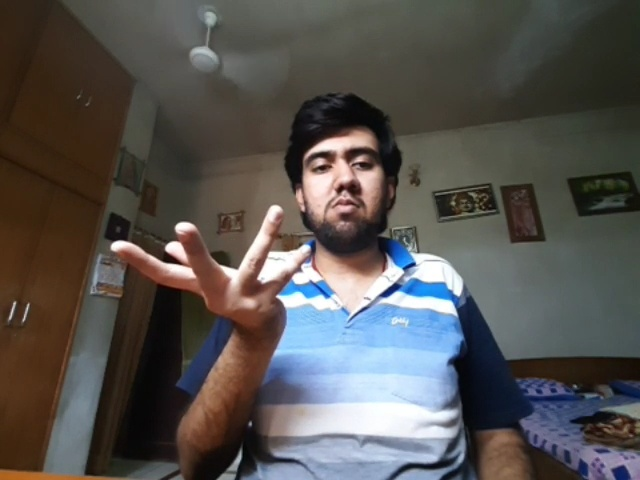What: (110, 205, 313, 331)
